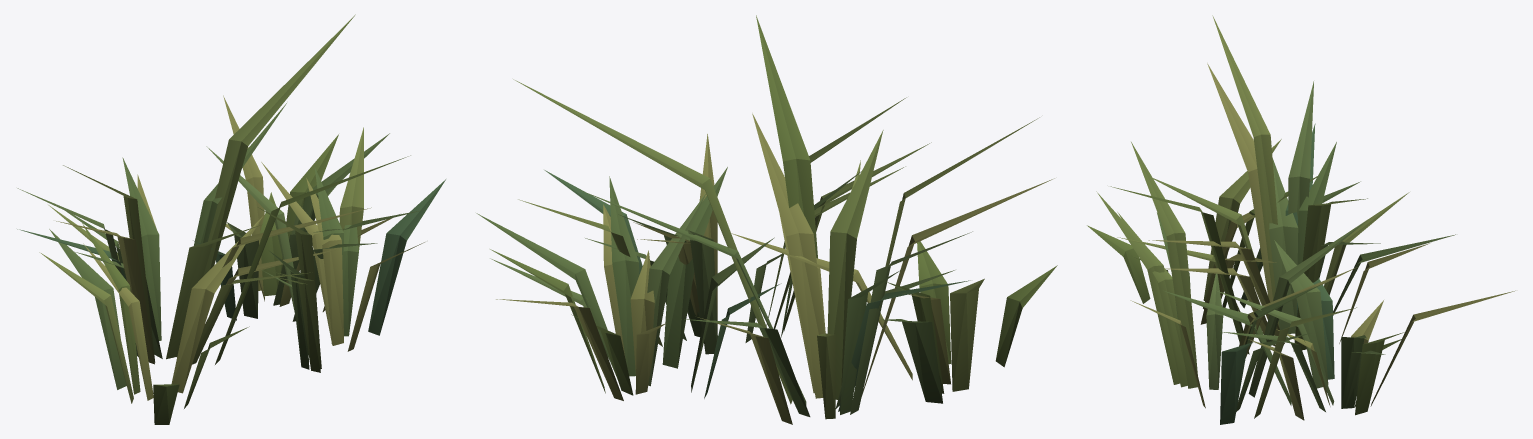
The model's file is grass_tuft.glb.
The picture shows the model from 3 angles, left to right: view 1: azimuth 30°, elevation 25°; view 2: azimuth 150°, elevation 25°; view 3: azimuth 270°, elevation 25°; orthographic projection. The views are drawn at different scales.
Visible parts, largest first — view 1: grass_tuft; view 2: grass_tuft; view 3: grass_tuft.
Boxes of the visible parts, <box> form: grass_tuft: <box>17,14,445,424</box>; grass_tuft: <box>476,15,1057,424</box>; grass_tuft: <box>1087,15,1515,424</box>.
Size of the model in its own units: 0.6843 by 0.3976 by 0.6152.
